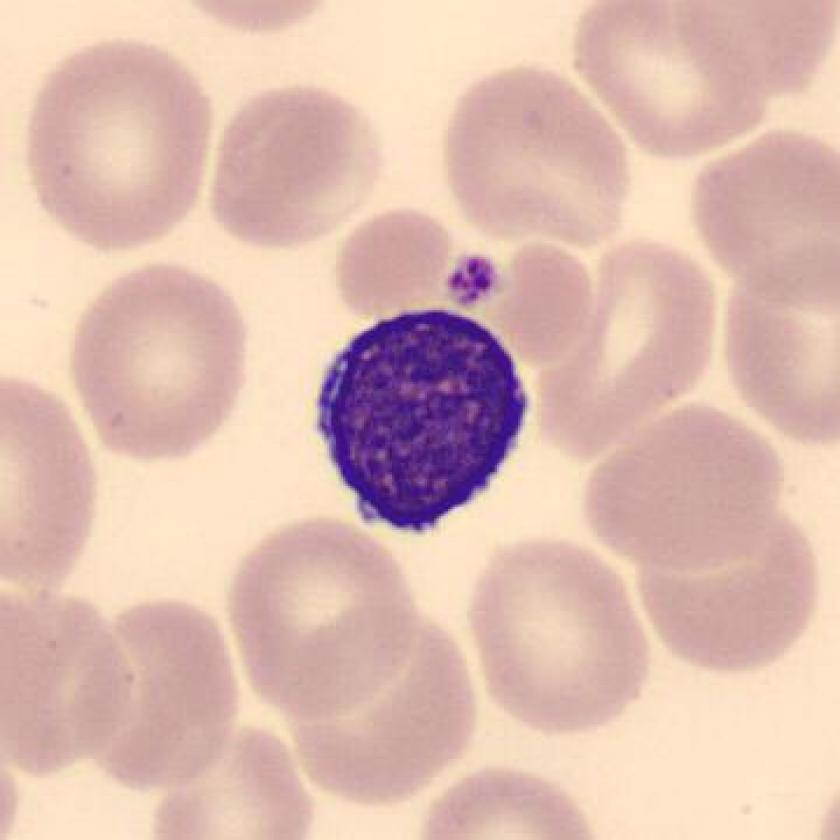lymphocyte: (309, 306, 547, 538)
